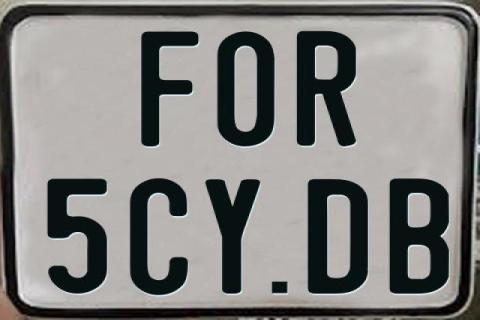0: (45, 177, 107, 296), (215, 29, 275, 144)
B: (386, 178, 448, 298)
C: (129, 178, 192, 298)
D: (308, 178, 372, 296)
F: (139, 29, 203, 147)
R: (294, 29, 354, 150)
Y: (204, 179, 262, 295)
